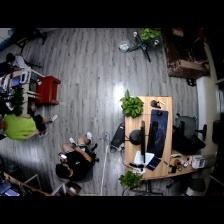normal: (1, 111, 58, 141), (58, 131, 95, 177), (6, 52, 31, 71)
